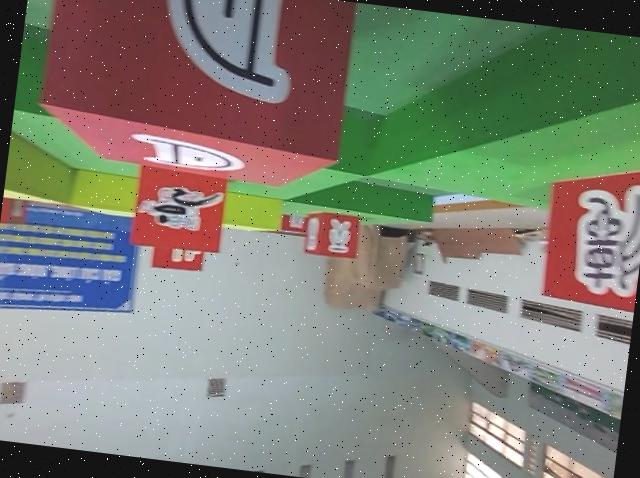R1: (128, 161, 231, 258)
R2 Fake: (535, 152, 640, 317), (301, 207, 364, 263)
R2 Real: (31, 0, 361, 198)
